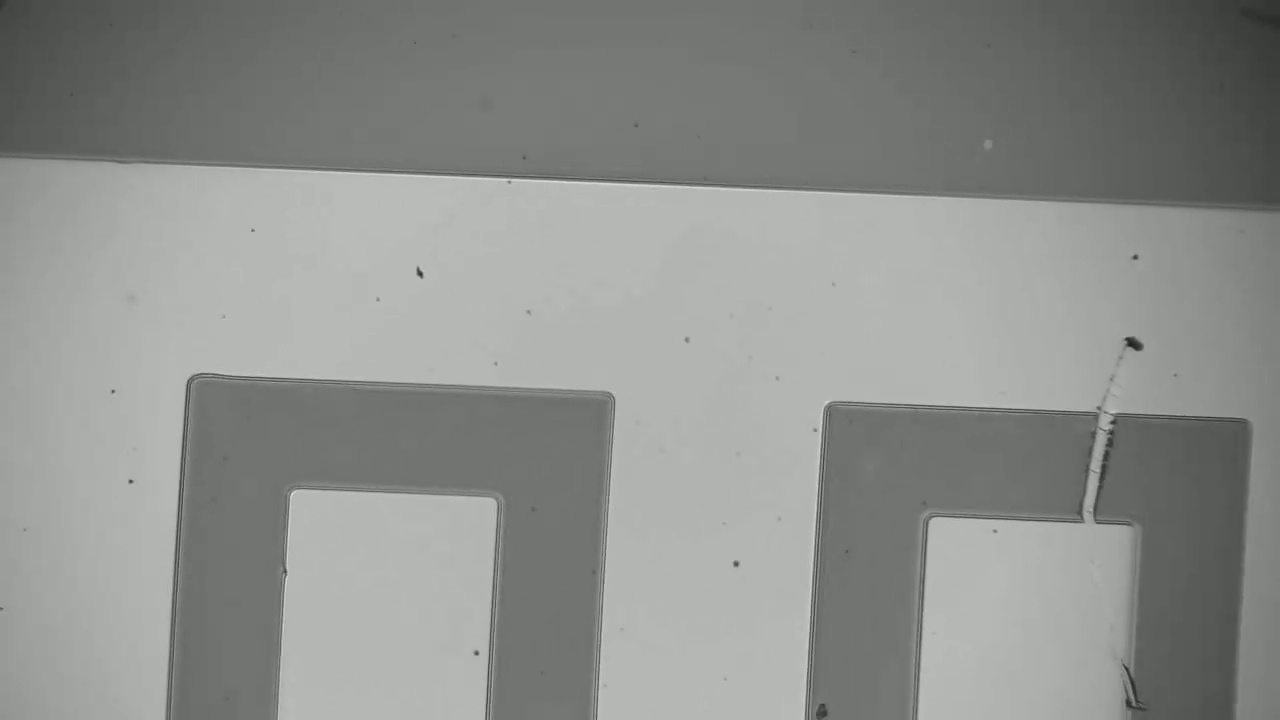Short_circuit: (1028, 366, 1155, 558)
